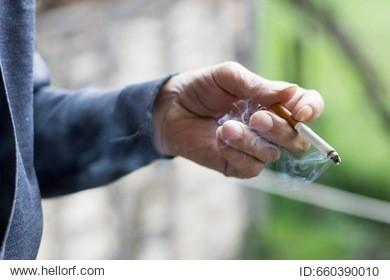Cigarette: (269, 102, 341, 166)
